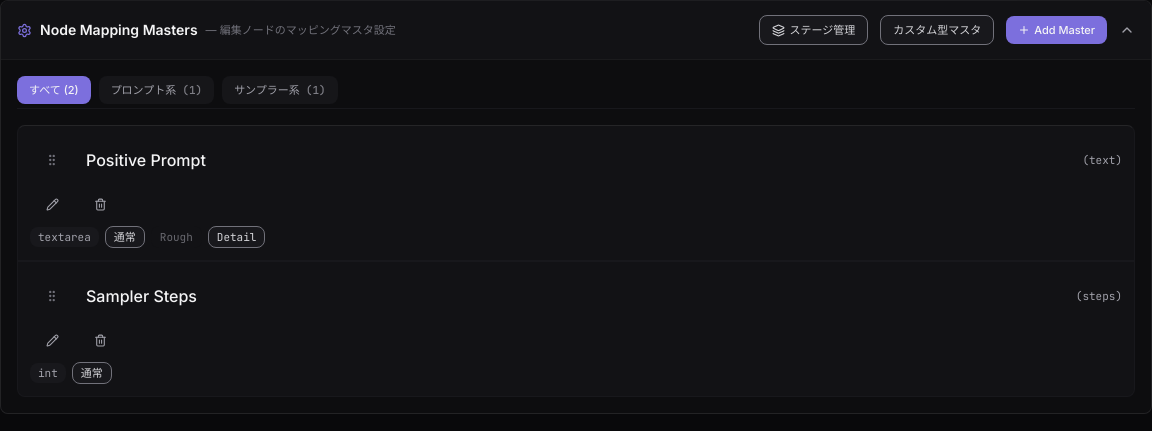
Scenario: MappingMasterSection & Modals › MappingMasterSection UI › renders master rows with aggregated stage variants and respects group tab filtering
This screenshot has width=1152, height=431.
Expected: the text "Positive Prompt" is shown, [86,150,206,170]
Expected: the text "(text)" is shown, [1082,152,1122,168]
// Category tab filtering: switch to "サンプラー系"
Click the tab "サンプラー系 (1)" at (280, 90), box [222,76,338,104]
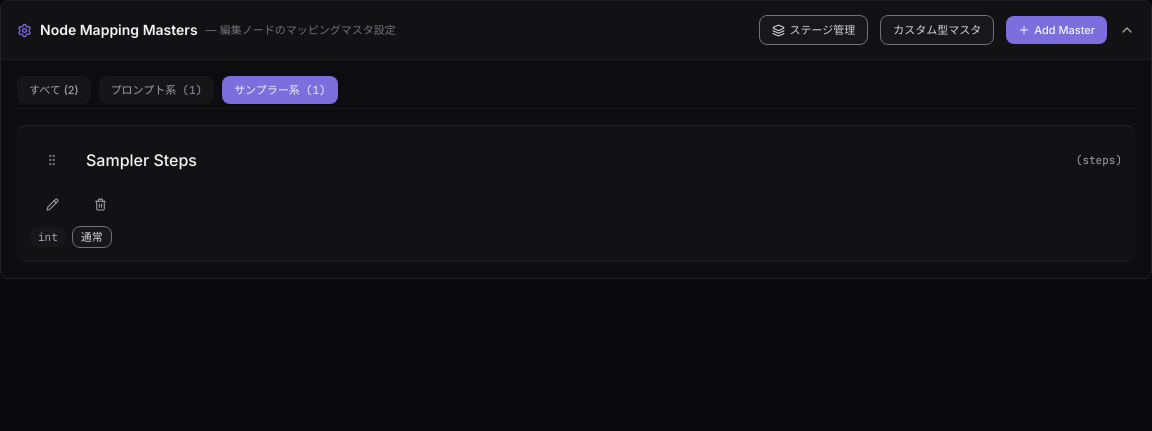
Expected: the text "Sampler Steps" is shown, [86,150,197,170]
Result: the text "Positive Prompt" is gone
// Switch back to "すべて"
Click the tab "すべて (2)" at (54, 90), box [17,76,91,104]
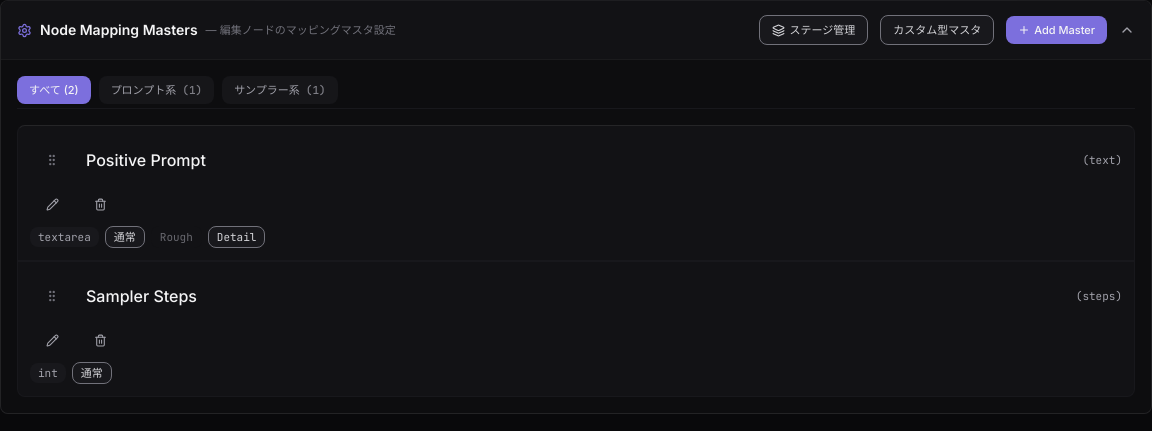
Expected: the text "Sampler Steps" is shown, [86,286,197,306]
Result: the text "Positive Prompt" is shown at [86,150,206,170]
